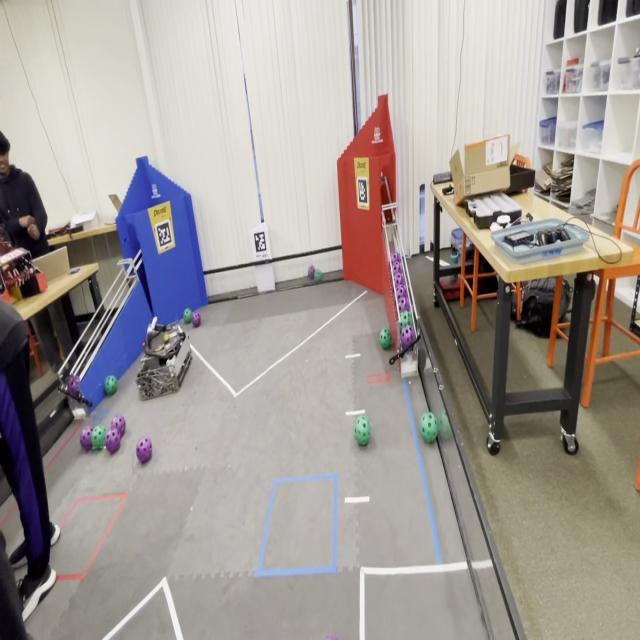artifact_green: (420, 413, 438, 443), (355, 416, 371, 446), (438, 409, 452, 440), (91, 425, 106, 450), (380, 328, 392, 350), (104, 376, 117, 395), (400, 312, 412, 328), (450, 248, 459, 265), (183, 308, 192, 324), (314, 269, 322, 283), (308, 264, 315, 280)
artifact_purple: (136, 438, 151, 463), (105, 429, 120, 454), (401, 326, 415, 348), (111, 416, 125, 438), (80, 426, 92, 451), (67, 375, 79, 397), (393, 271, 405, 287), (398, 296, 409, 312), (192, 311, 202, 328), (396, 285, 407, 299), (308, 265, 315, 280), (393, 263, 402, 273), (391, 252, 400, 262), (324, 636, 337, 639)
